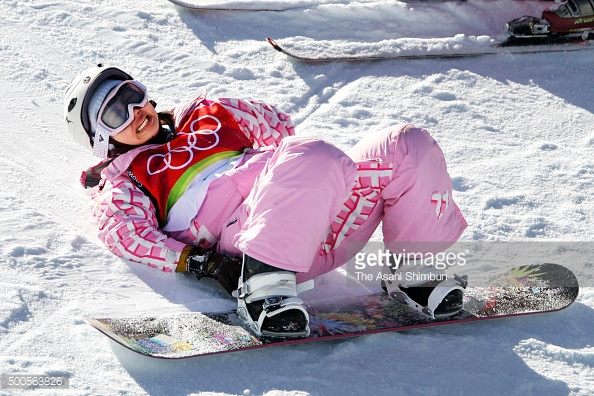deitado: (76, 63, 478, 316)
